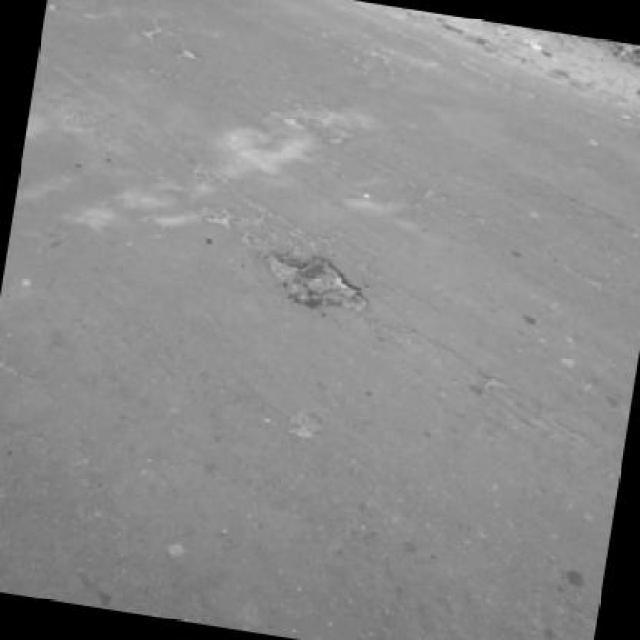pothole: (255, 245, 380, 317)
